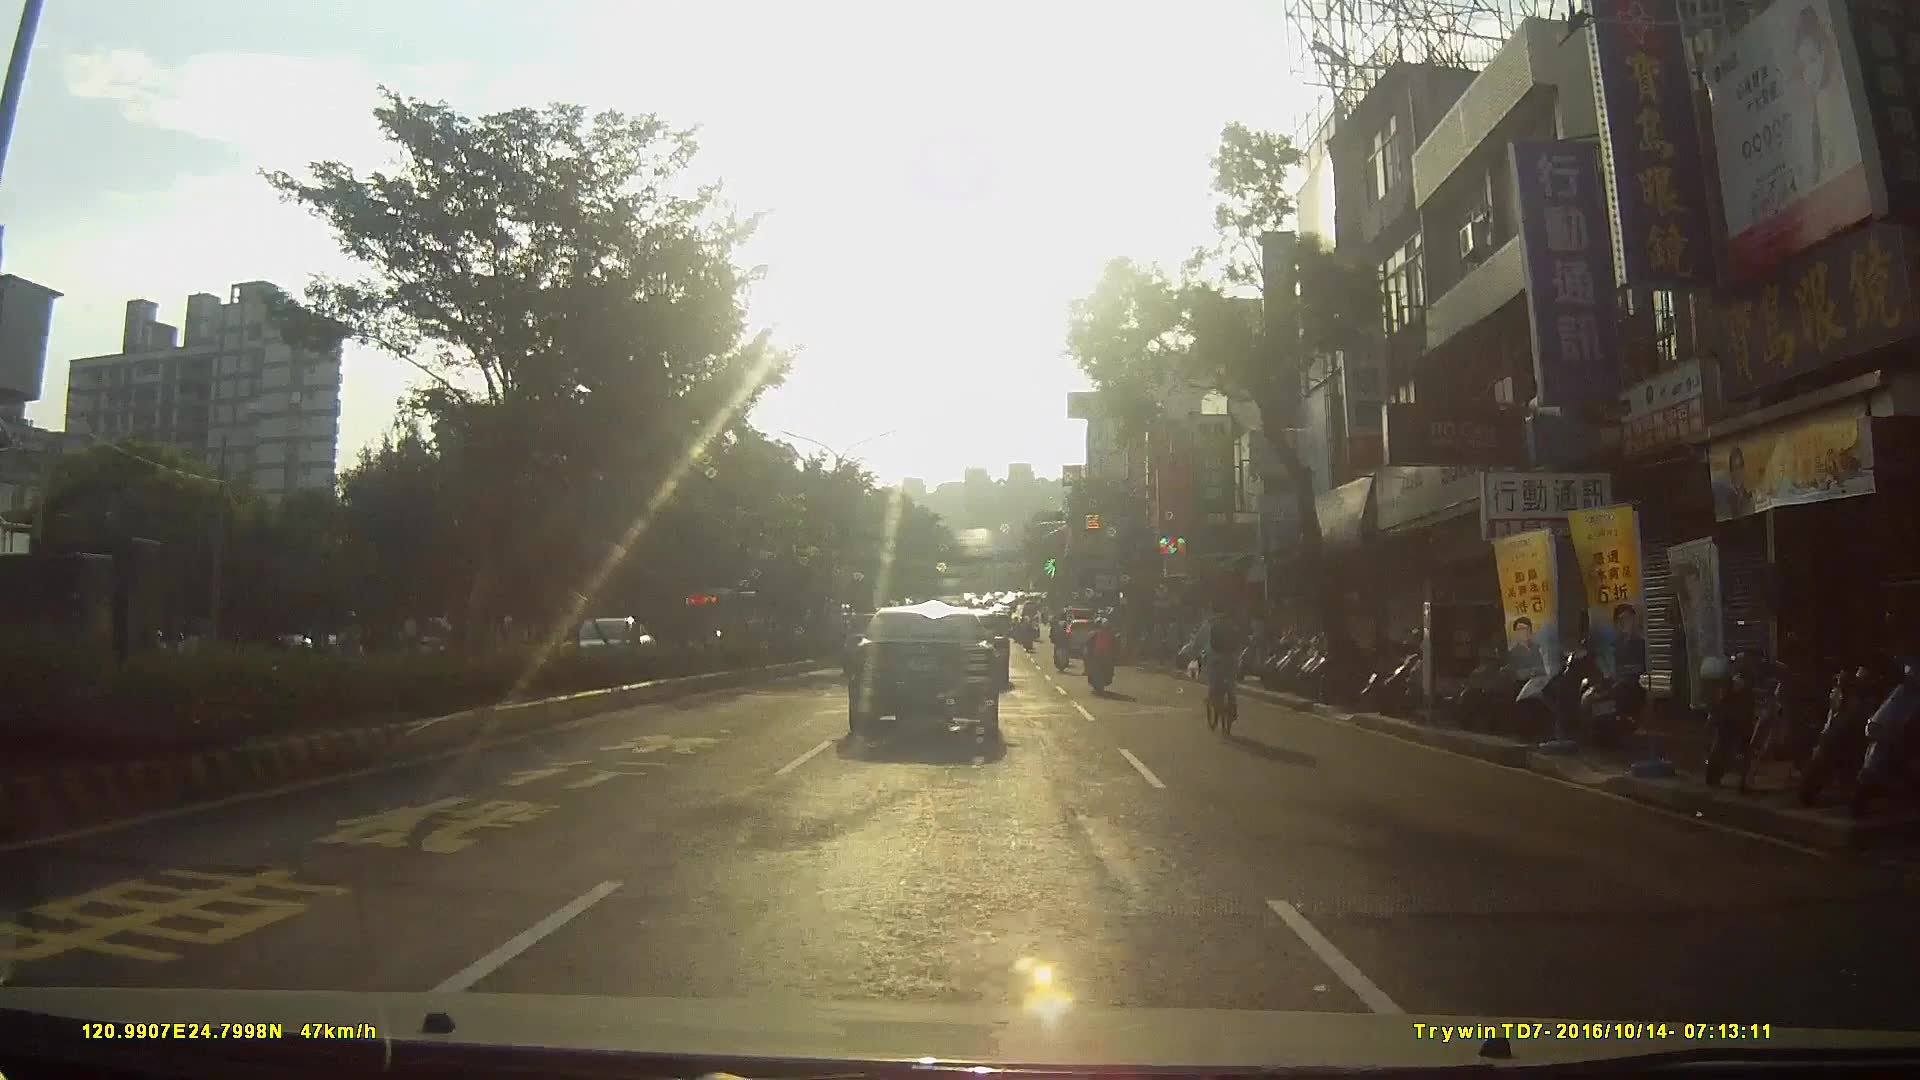rider: (1194, 592, 1258, 738), (1085, 612, 1118, 689), (1051, 613, 1074, 670)
vehicle: (847, 605, 1014, 753), (554, 613, 666, 674)
